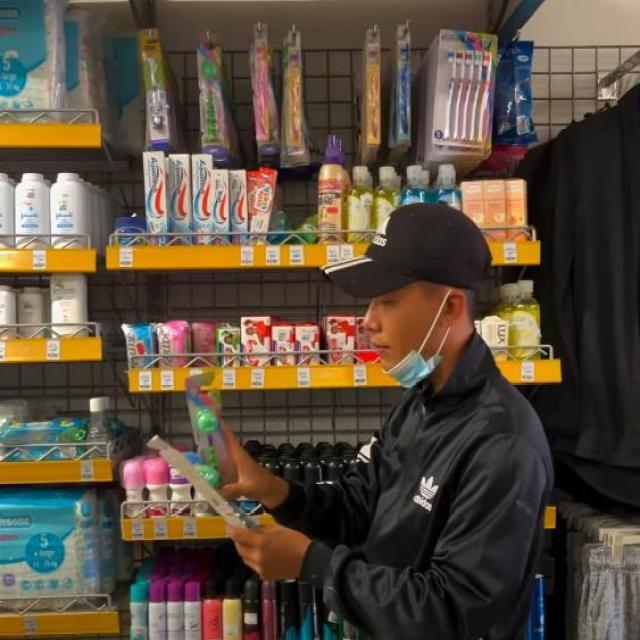hairnet: (363, 298, 448, 388)
